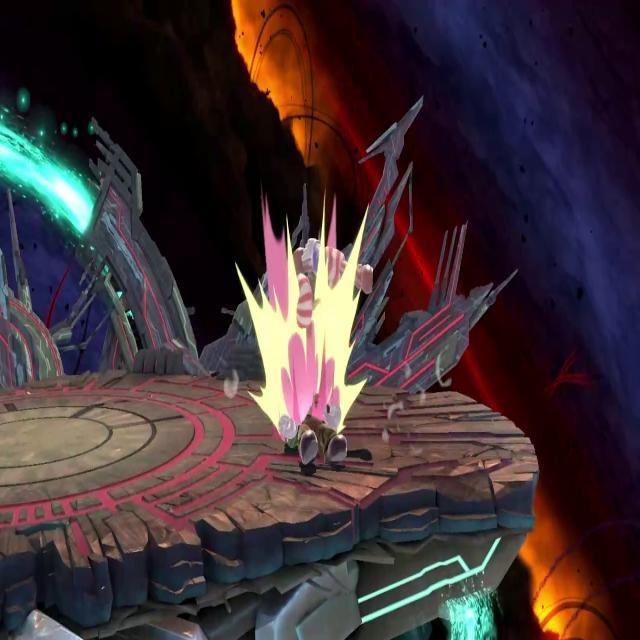Mario: (276, 355, 352, 480)
Mario-Grab: (285, 221, 376, 365)
